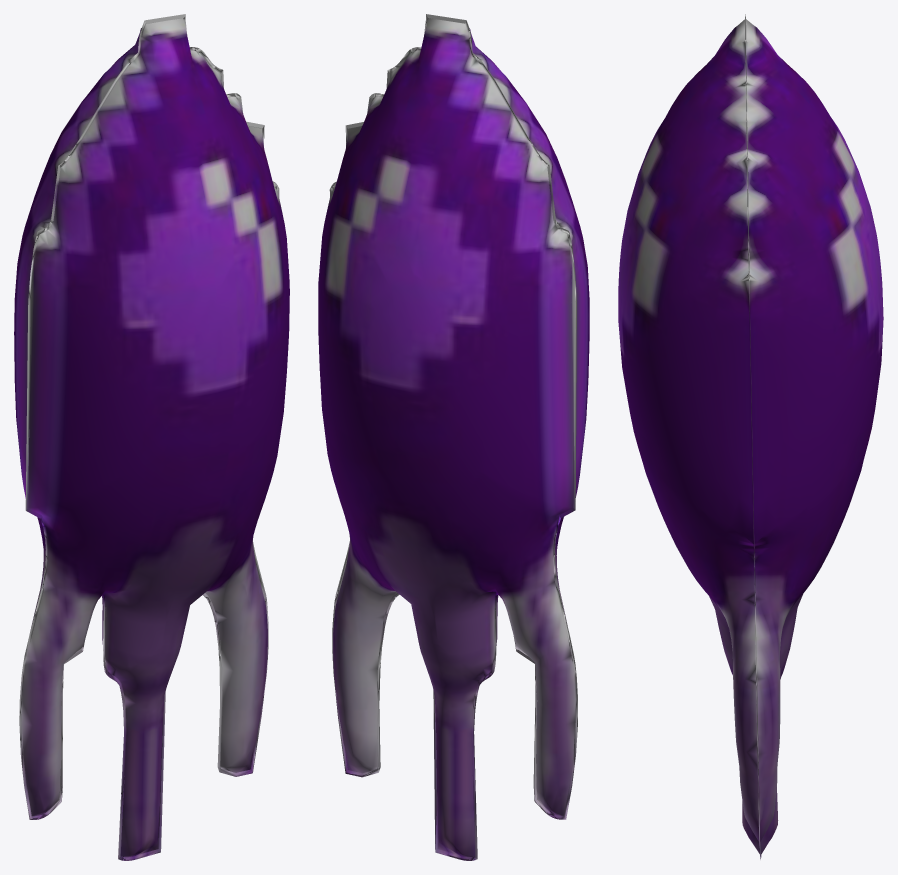
Rendered from inflatable-rocket.glb.
The picture shows the model from 3 angles, left to right: view 1: azimuth 30°, elevation 25°; view 2: azimuth 150°, elevation 25°; view 3: azimuth 270°, elevation 25°; orthographic projection.
Visible parts, largest first — view 1: Layer 1; view 2: Layer 1; view 3: Layer 1.
Boxes of the visible parts, x1=… form: Layer 1: x1=14, y1=14, x2=289, y2=860; Layer 1: x1=318, y1=14, x2=589, y2=860; Layer 1: x1=618, y1=14, x2=883, y2=859.
Size of the model in its own units: 0.1462 by 0.4613 by 0.1325.
Materials: 4 (4 with a texture image).
